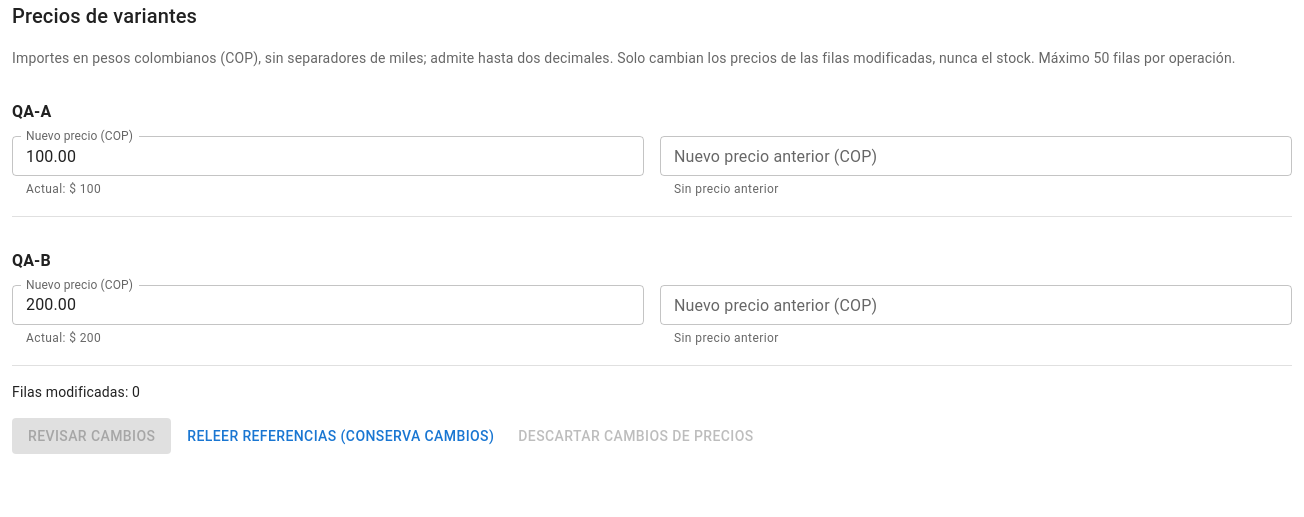
Test: disables review for invalid money and compare-at values
Replace the text in the field labelled "Nuevo precio (COP)" below "QA-A" with "1.234" at (328, 156), box [12,136,644,176]
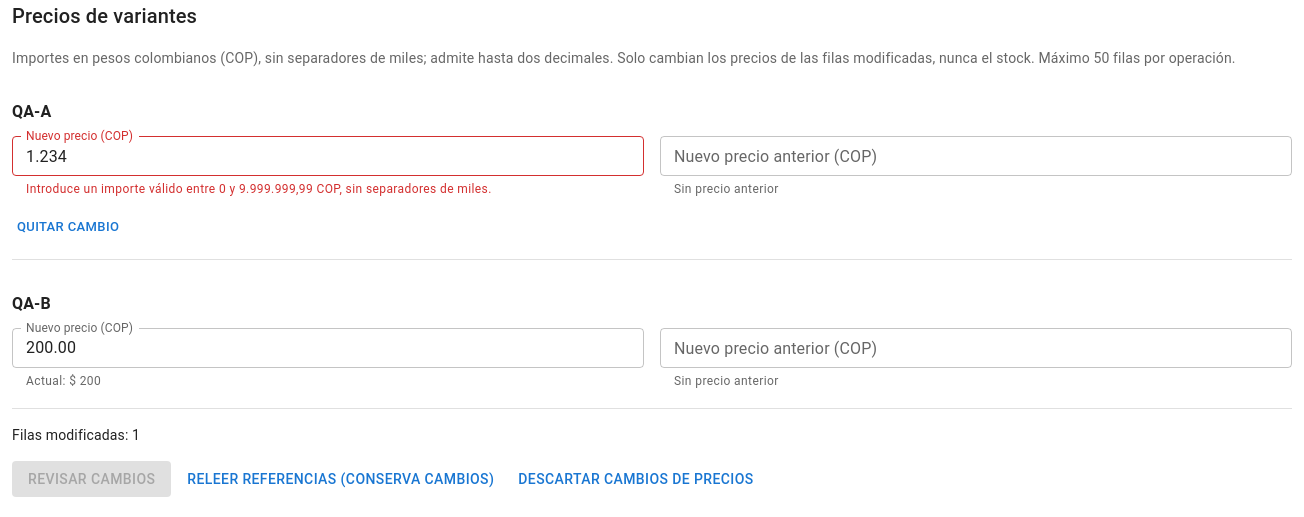
Expected: the button "Revisar cambios" is disabled, [12,461,171,497]
Expected: the text "Introduce un importe válido entre 0 y 9.999.999,99 COP, sin separadores de miles." is shown, [26,182,492,196]
Replace the text in the field labelled "Nuevo precio (COP)" below "QA-A" with "200" at (328, 156), box [12,136,644,176]
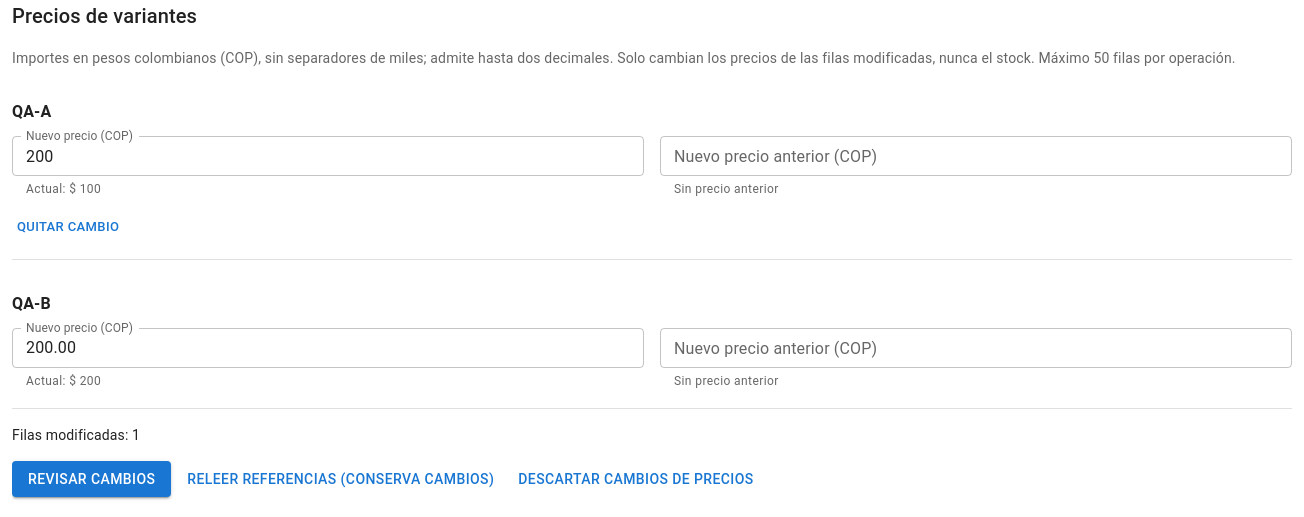
Type "100" into the 1st field labelled "Nuevo precio anterior (COP)" at (976, 156), box [660,136,1292,176]
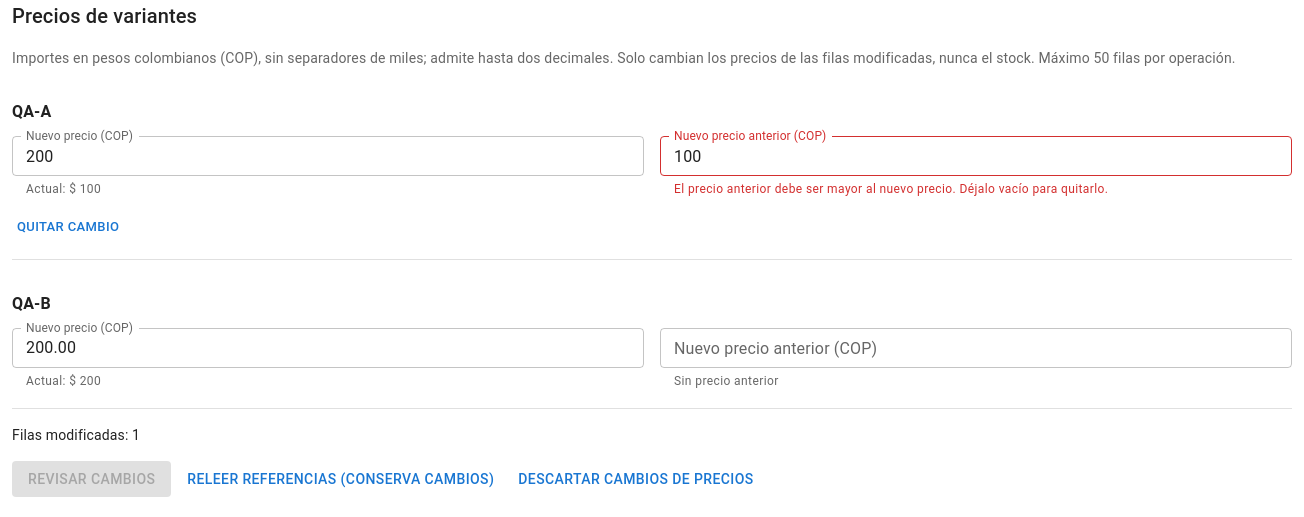
Expected: the text "El precio anterior debe ser mayor al nuevo precio. Déjalo vacío para quitarlo." is shown, [674,182,1108,196]
Expected: the button "Revisar cambios" is disabled, [12,461,171,497]
